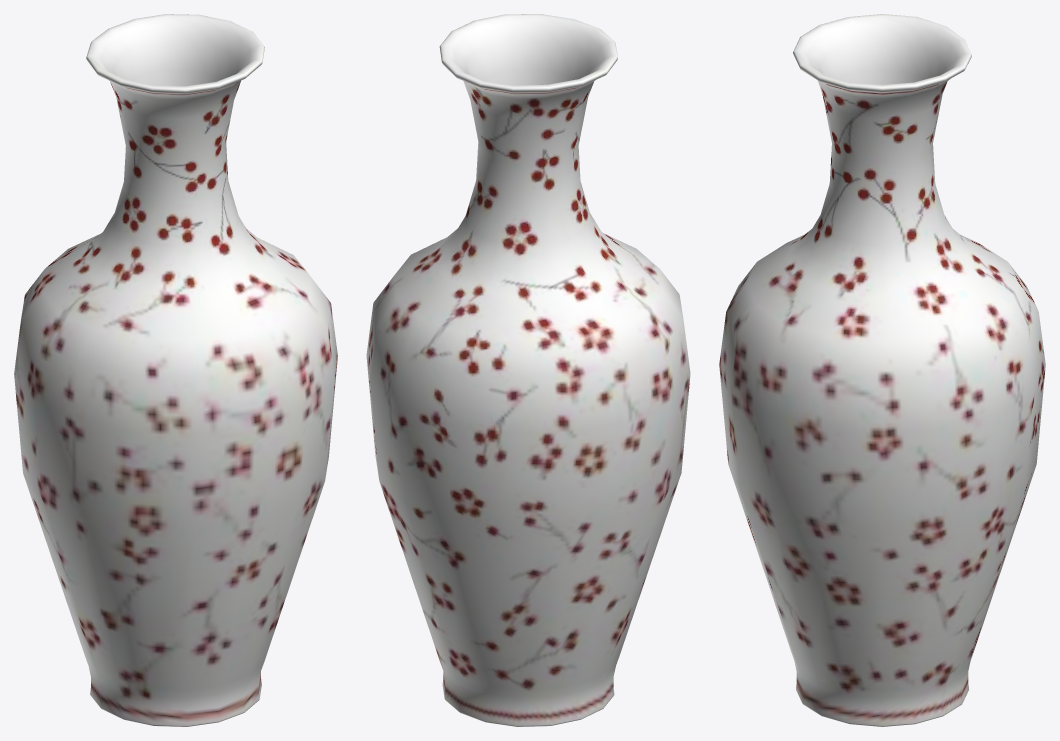
The model's file is obj_floral_vase.glb.
3 views of the same model, side by side, from view 1: azimuth 30°, elevation 25°; view 2: azimuth 150°, elevation 25°; view 3: azimuth 270°, elevation 25° (orthographic).
Visible parts, largest first — view 1: #VAS0001_Vase_#VAS0001_Textures_0; view 2: #VAS0001_Vase_#VAS0001_Textures_0; view 3: #VAS0001_Vase_#VAS0001_Textures_0.
Boxes of the visible parts, x1=… form: #VAS0001_Vase_#VAS0001_Textures_0: x1=14, y1=14, x2=337, y2=726; #VAS0001_Vase_#VAS0001_Textures_0: x1=366, y1=14, x2=690, y2=726; #VAS0001_Vase_#VAS0001_Textures_0: x1=719, y1=14, x2=1045, y2=726.
Size of the model in its own units: 0.1753 by 0.38 by 0.1753.
Materials: 1 (1 with a texture image).
